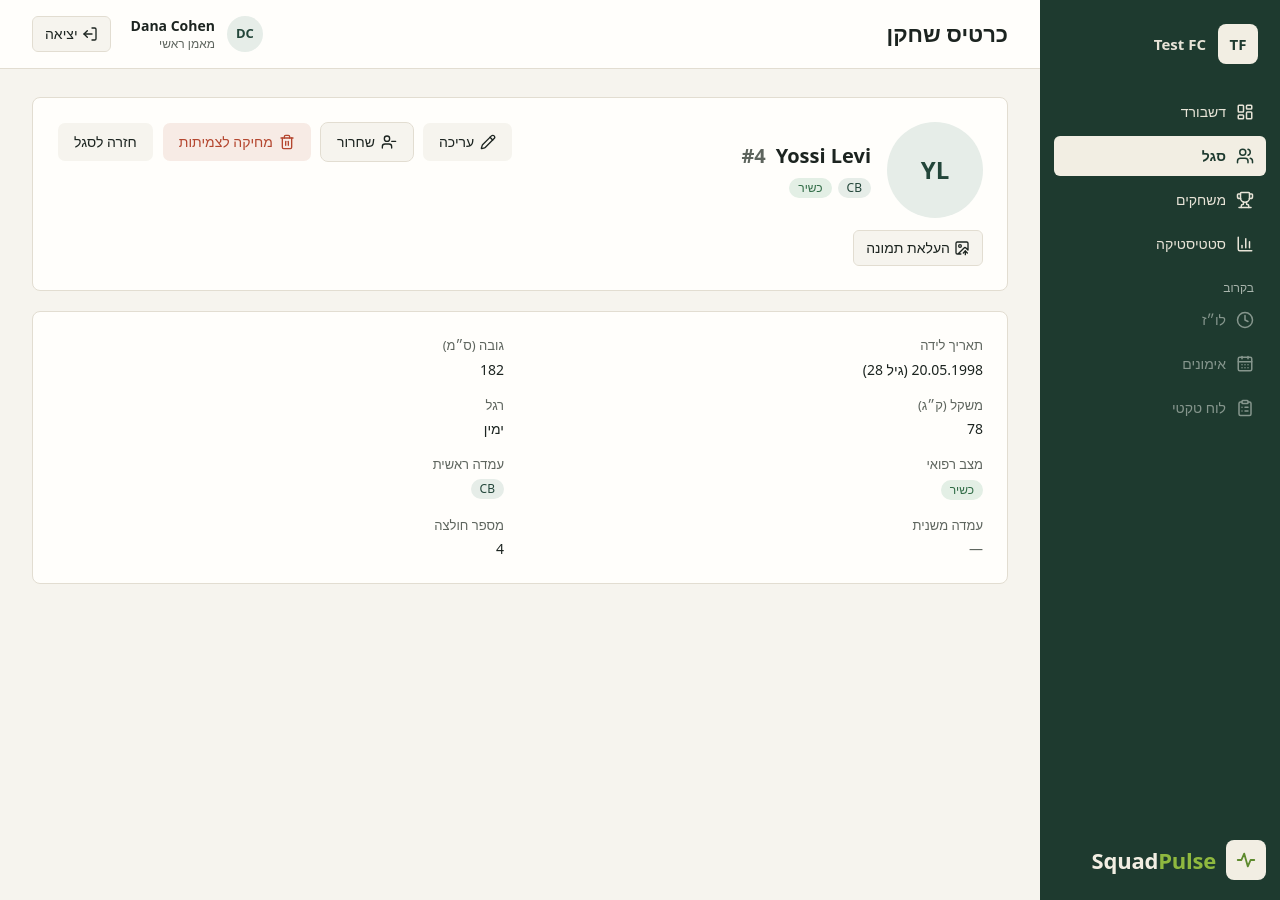
the card's release › sends nothing when cancelled, or closed with Escape
Check: the heading "Yossi Levi" is shown, box [776, 142, 871, 170]
Click the button "שחרור".
click(367, 142)  # box [320, 122, 414, 162]
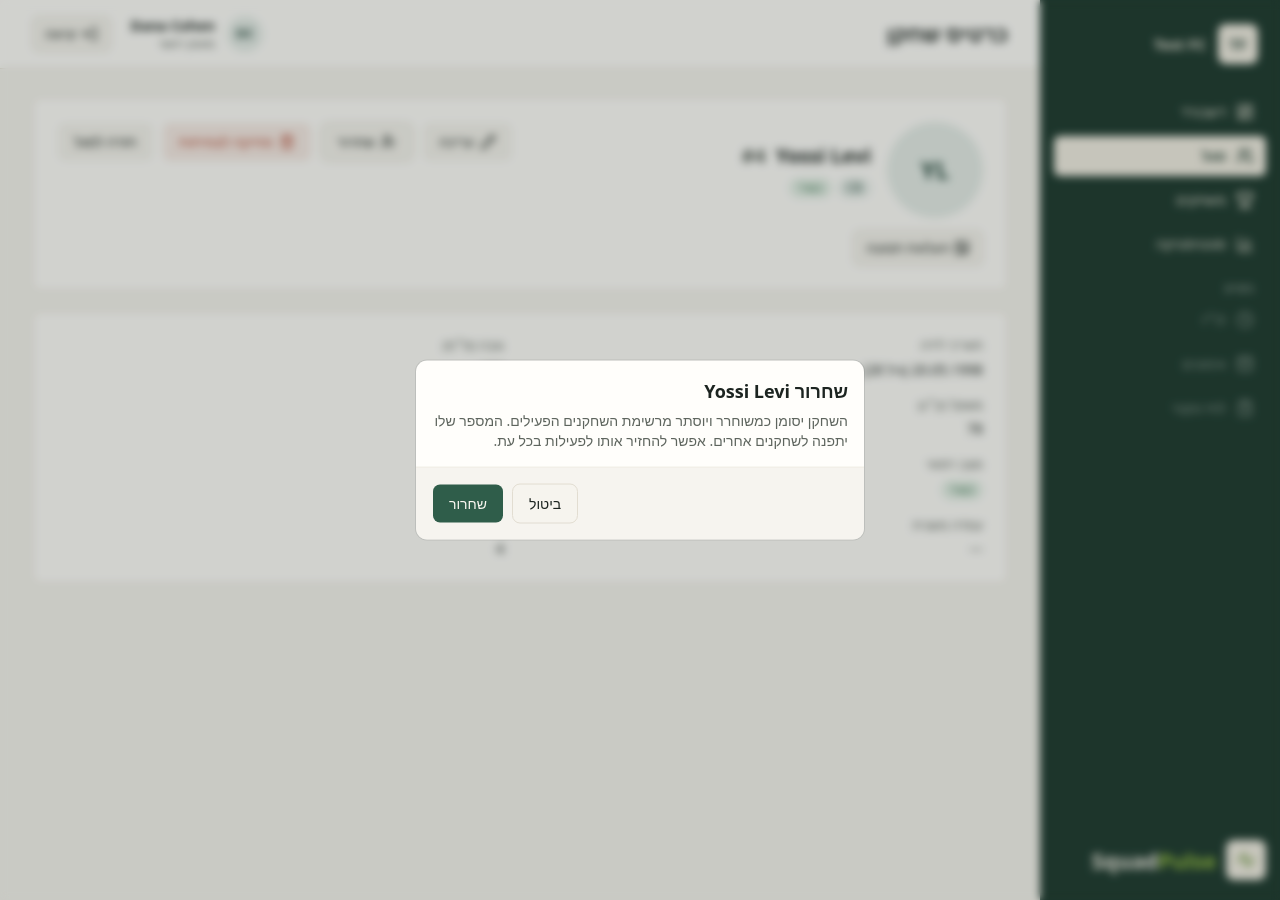
Click the button "ביטול".
click(545, 504)  # box [512, 484, 578, 524]
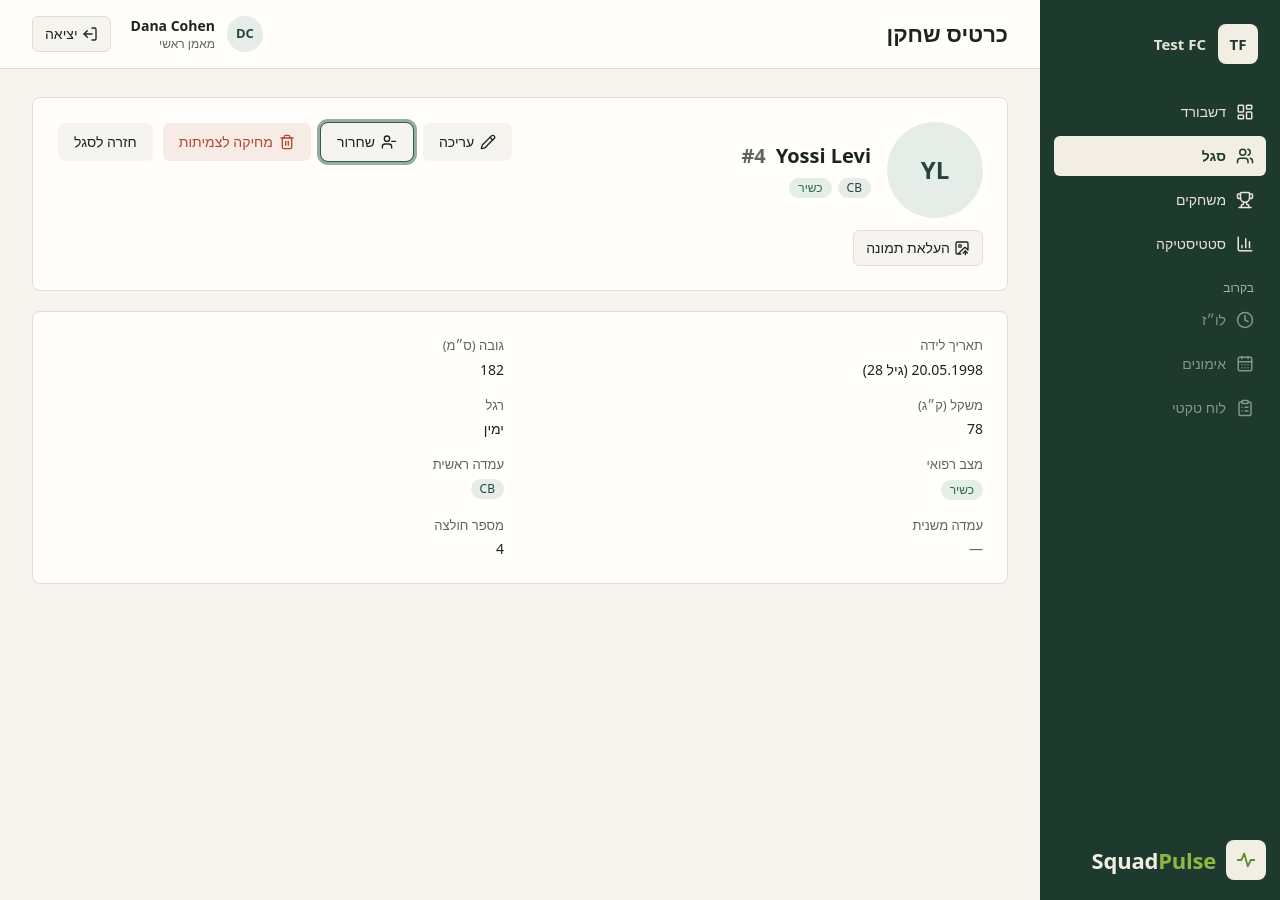
Check: the dialog is gone
Click the button "שחרור".
click(367, 142)  # box [320, 122, 414, 162]
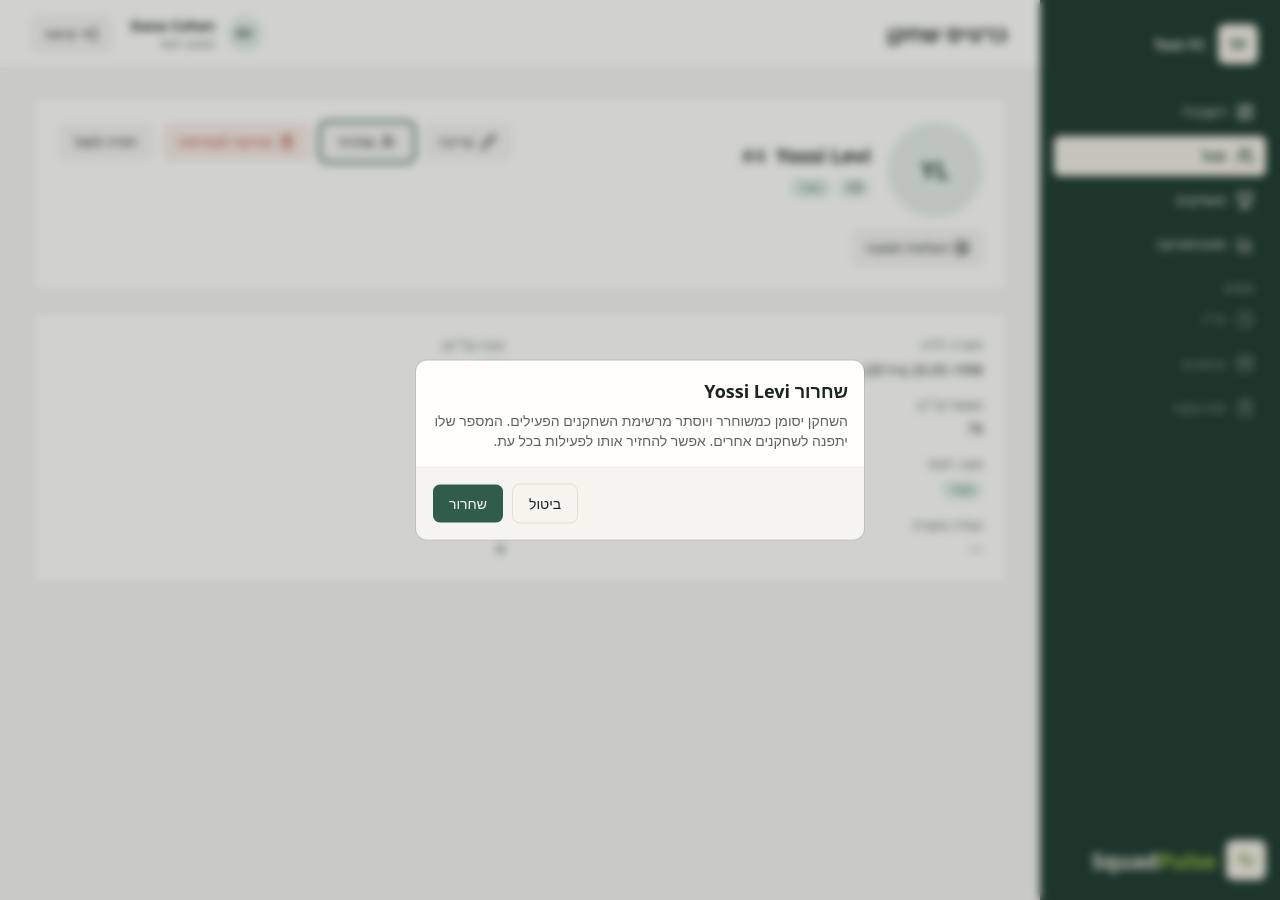
Press Escape in the dialog, box [416, 360, 864, 540]
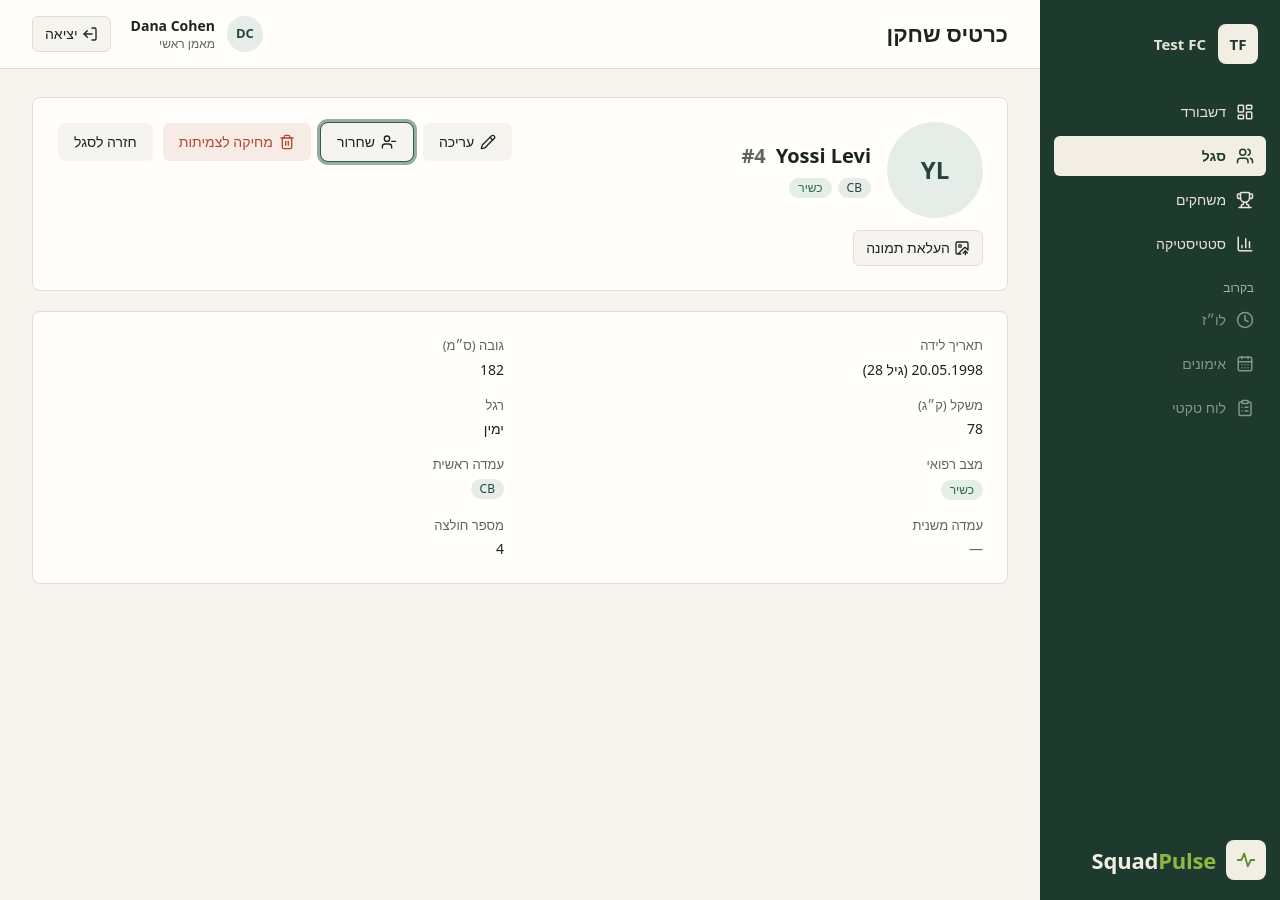
Check: the dialog is gone
